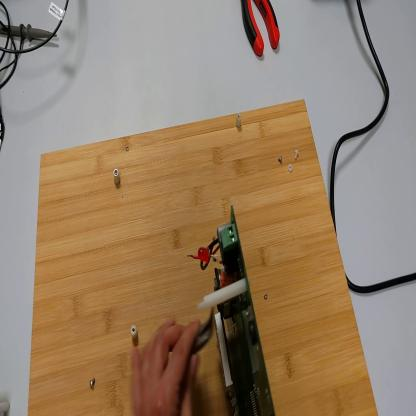hand: (131, 314, 200, 416)
low voltage board: (188, 207, 275, 416)
oscilloscope probe tip: (2, 22, 60, 43)
pliers: (241, 1, 282, 61), (173, 309, 219, 358)
working area: (30, 98, 379, 415)
